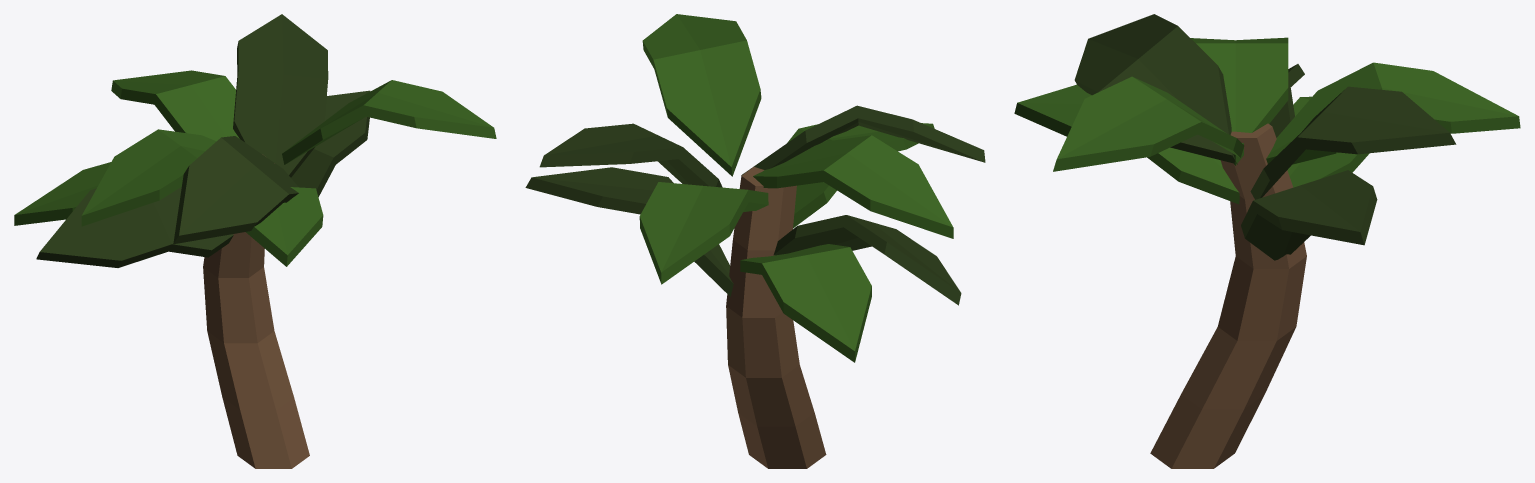
The model's file is Tree1.fbx.
3 views of the same model, side by side, from view 1: azimuth 30°, elevation 25°; view 2: azimuth 150°, elevation 25°; view 3: azimuth 270°, elevation 25° (orthographic). The views are drawn at different scales.
Visible parts, largest first — view 1: Cylinder.002; view 2: Cylinder.002; view 3: Cylinder.002.
Part boxes in pixels (left/top/right/bottom): Cylinder.002: left=14, top=14, right=496, bottom=468; Cylinder.002: left=525, top=14, right=985, bottom=468; Cylinder.002: left=1014, top=14, right=1520, bottom=468.
Bounding box in the file's own units: 374 × 341 × 378.
